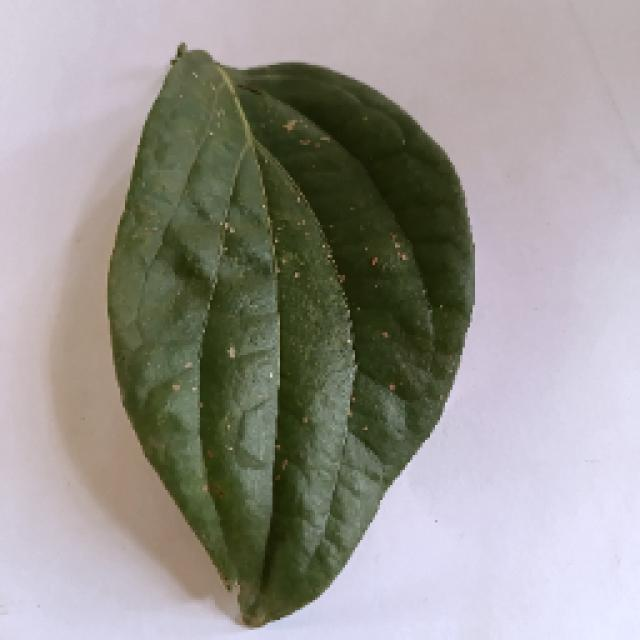pollu-disease: (102, 48, 470, 620)
